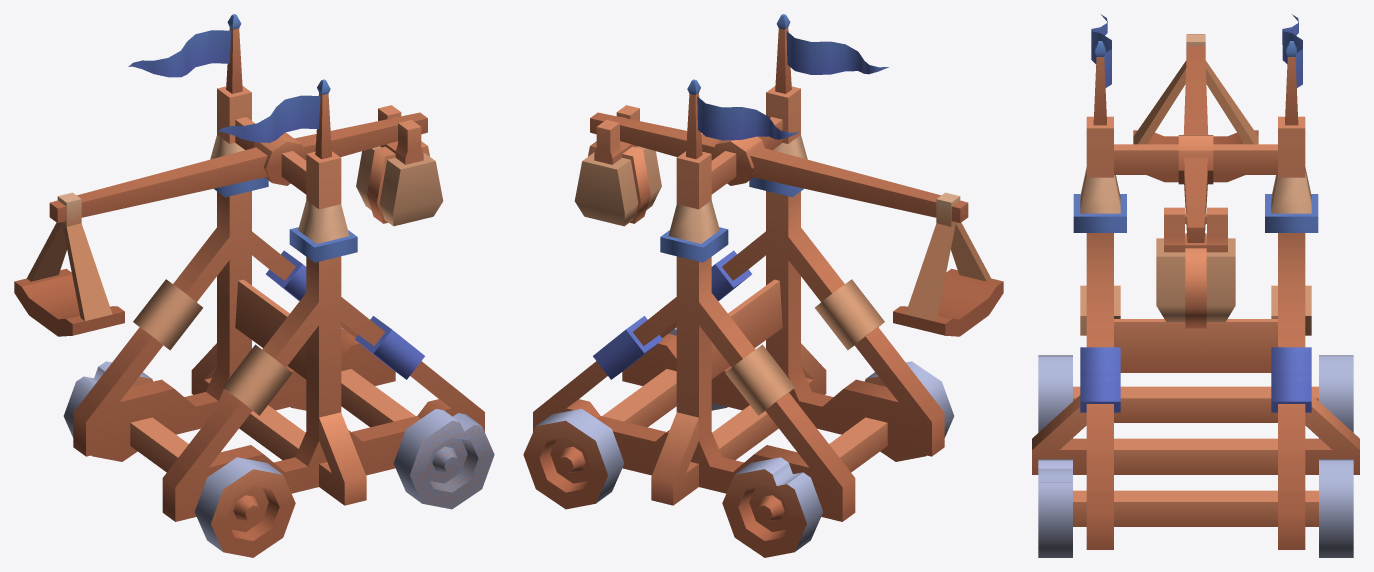
Rendered from siege-trebuchet.obj.
The picture shows the model from 3 angles, left to right: view 1: azimuth 30°, elevation 25°; view 2: azimuth 150°, elevation 25°; view 3: azimuth 270°, elevation 25°; orthographic projection. The views are drawn at different scales.
Parts seen in each view (by area): view 1: siege-trebuchet, wheel, arm, catapult, weight; view 2: siege-trebuchet, wheel, arm, catapult, weight; view 3: siege-trebuchet, wheel, weight, arm, catapult.
Boxes of the visible parts, <box> form: siege-trebuchet: <box>73,14,484,521</box>; wheel: <box>63,327,494,557</box>; arm: <box>49,112,427,222</box>; catapult: <box>14,192,124,336</box>; weight: <box>356,105,443,226</box>; siege-trebuchet: <box>533,14,944,521</box>; wheel: <box>523,327,954,557</box>; arm: <box>590,112,968,222</box>; catapult: <box>893,192,1003,336</box>; weight: <box>574,105,661,226</box>; siege-trebuchet: <box>1032,14,1359,549</box>; wheel: <box>1038,355,1353,557</box>; weight: <box>1156,207,1235,328</box>; arm: <box>1178,34,1213,242</box>; catapult: <box>1133,34,1258,182</box>.
Bounding box in the file's own units: 1.85 × 1.96 × 1.26.
1 material, 1 textured.
